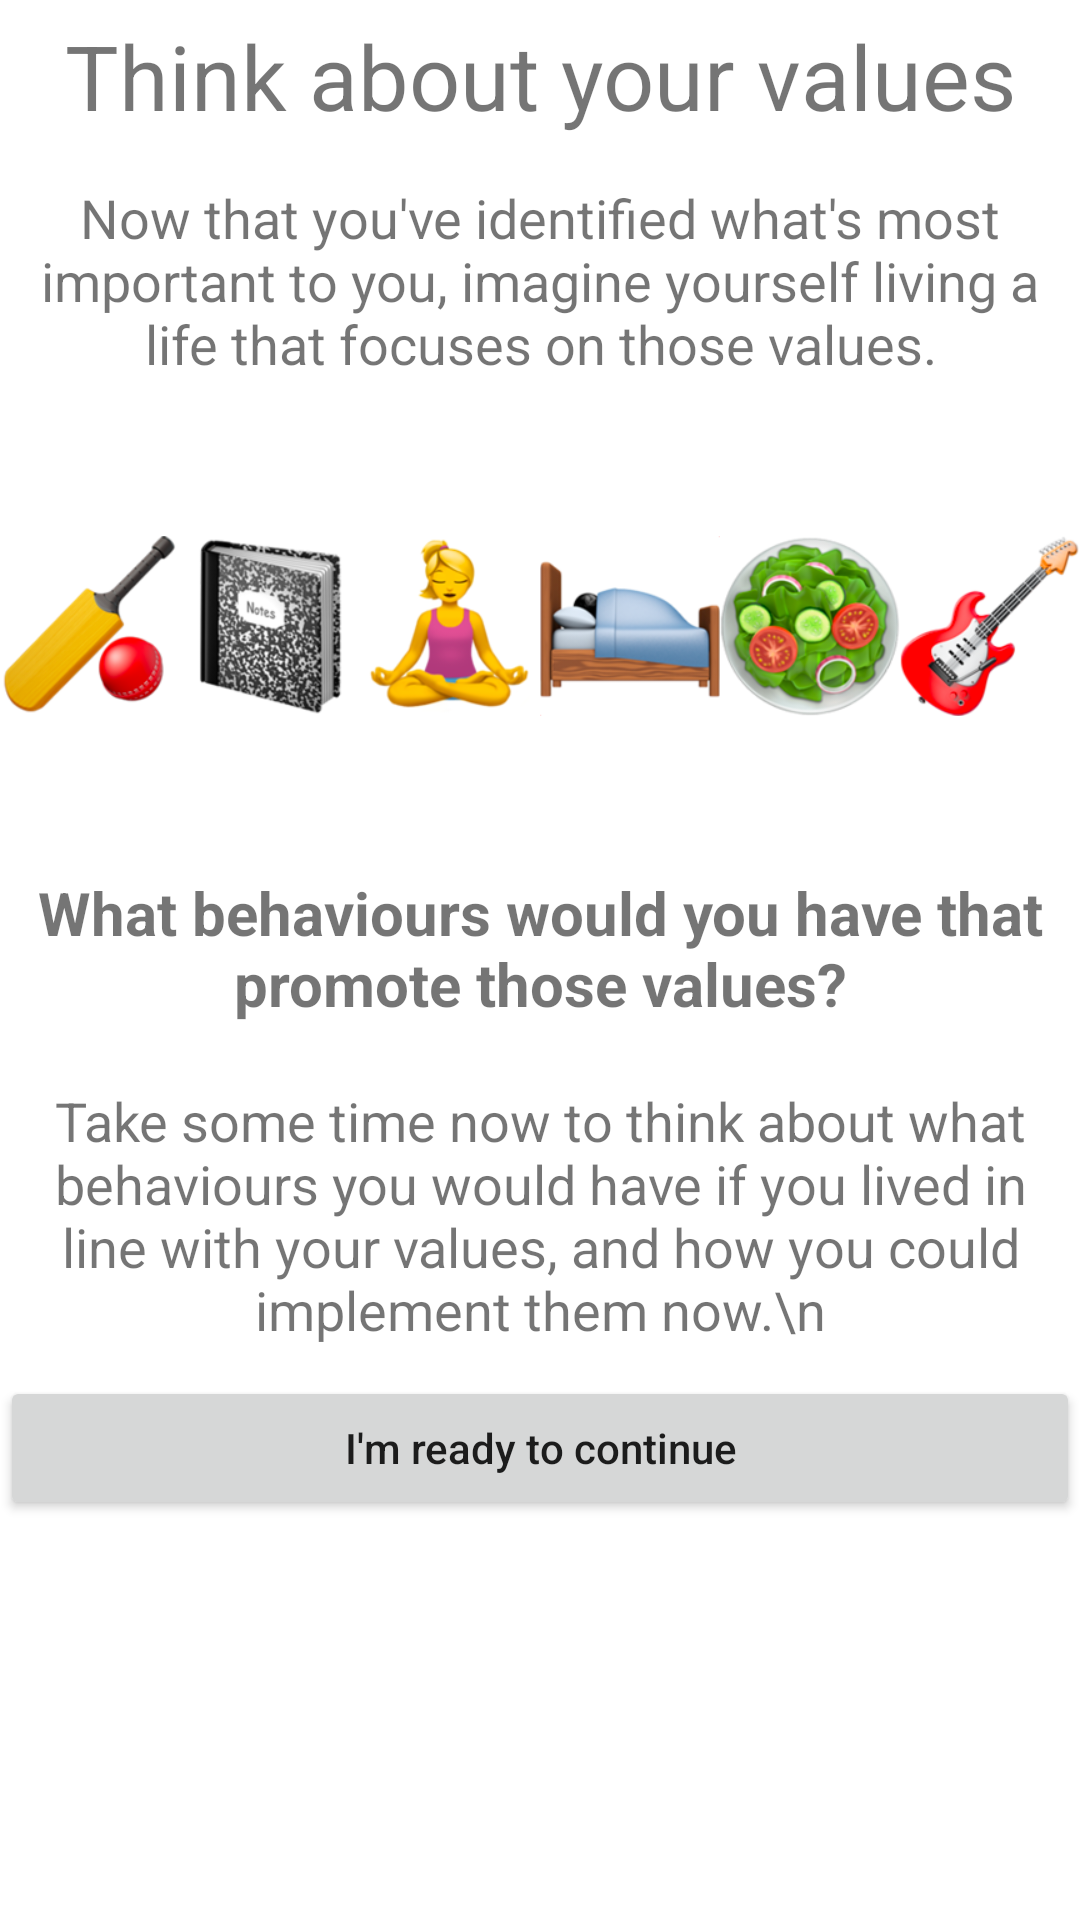

Named icons in this screenshot (1080×1920) and their centers, (x=x, y=y):
cricket: (x=89, y=624)
guitar: (x=989, y=627)
meditate: (x=449, y=624)
notebook: (x=270, y=626)
salad: (x=810, y=626)
sleep: (x=630, y=626)
